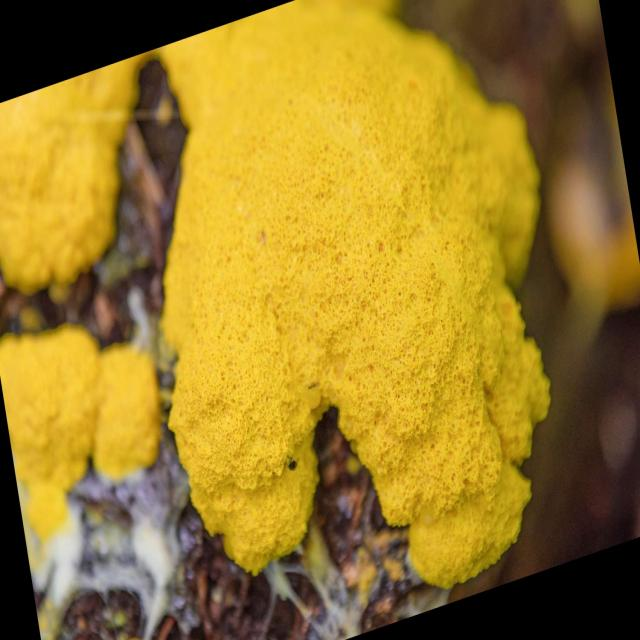Dog_vomit_slime_mold: (8, 46, 567, 640)
